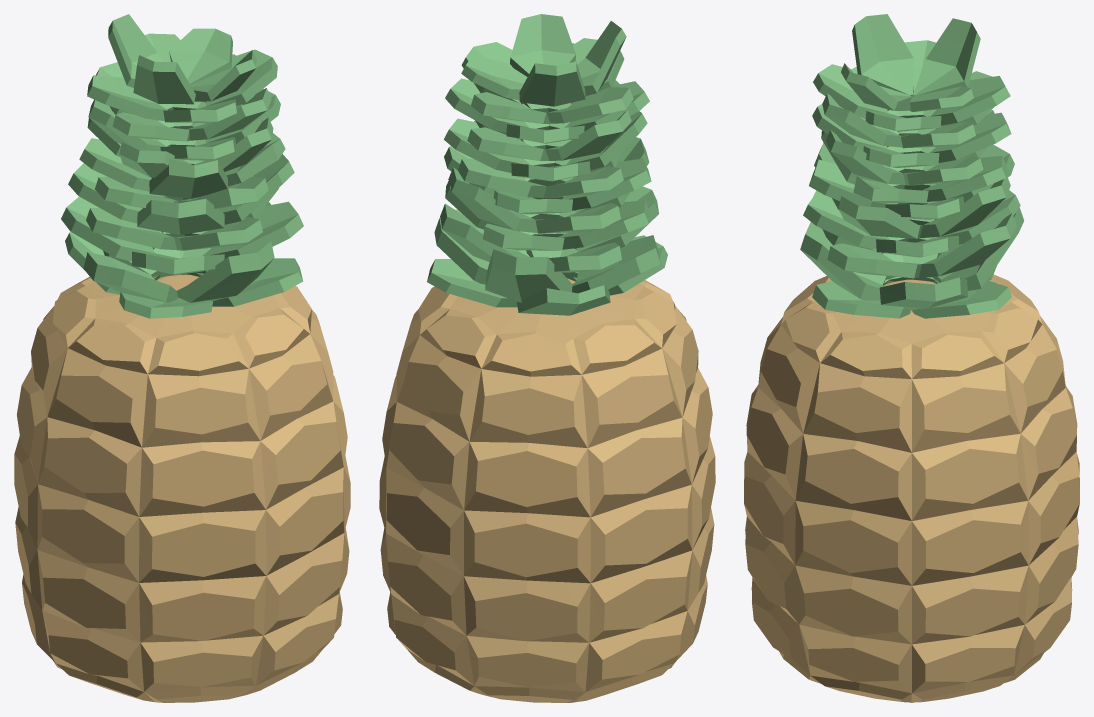
File: pineapple.gltf
The picture shows the model from 3 angles, left to right: view 1: azimuth 30°, elevation 25°; view 2: azimuth 150°, elevation 25°; view 3: azimuth 270°, elevation 25°; orthographic projection.
Parts seen in each view (by area): view 1: pineapple_Circle.004; view 2: pineapple_Circle.004; view 3: pineapple_Circle.004.
Boxes of the visible parts, x1,y1,x2,y2 form: pineapple_Circle.004: [14, 14, 350, 702]; pineapple_Circle.004: [379, 14, 715, 702]; pineapple_Circle.004: [744, 14, 1079, 702].
Size of the model in its own units: 0.1313 by 0.2701 by 0.1313.
